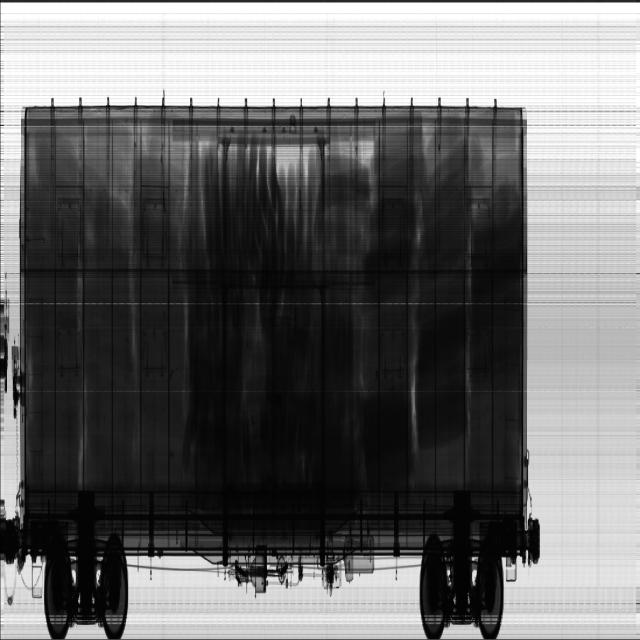clothes: (23, 123, 188, 501)
textiles: (192, 115, 521, 496)
